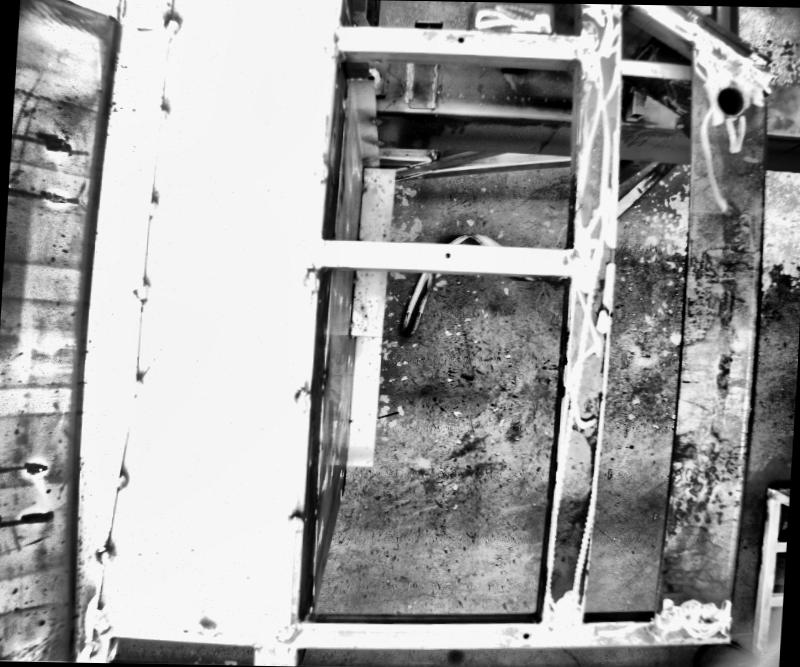hole: (712, 81, 748, 118), (443, 251, 451, 259), (522, 632, 530, 639), (457, 36, 465, 42)
